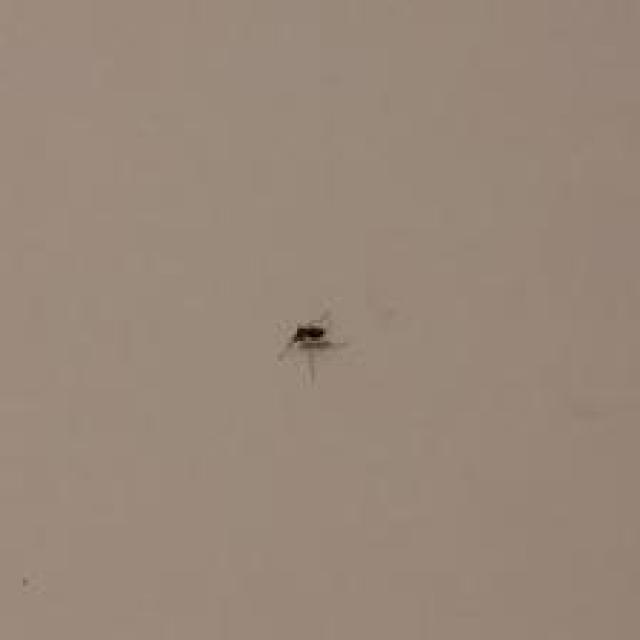Culex: (276, 308, 347, 383)
